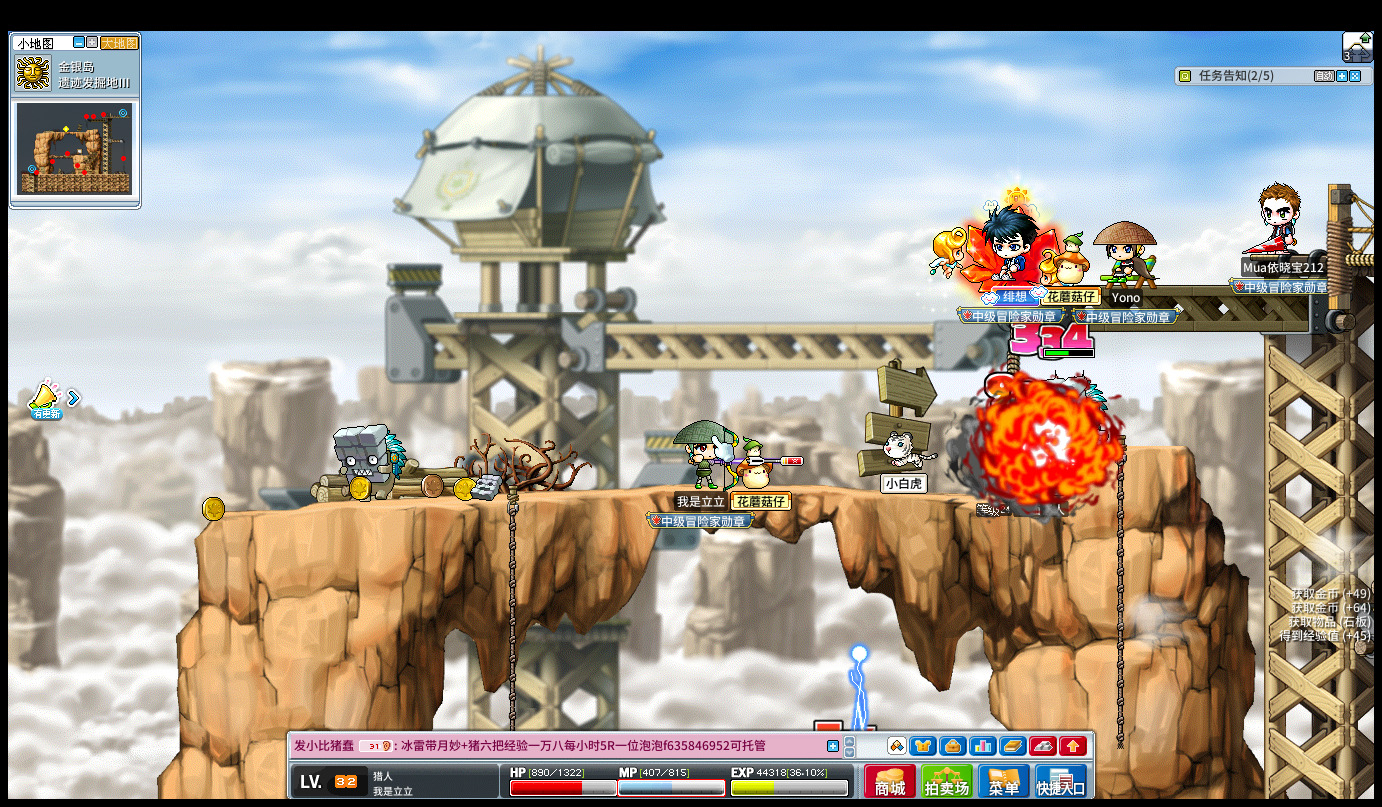floor: (217, 479, 1105, 509), (1116, 441, 1191, 455)
monster: (332, 424, 405, 502)
rope: (1111, 435, 1128, 756), (506, 481, 518, 680)
